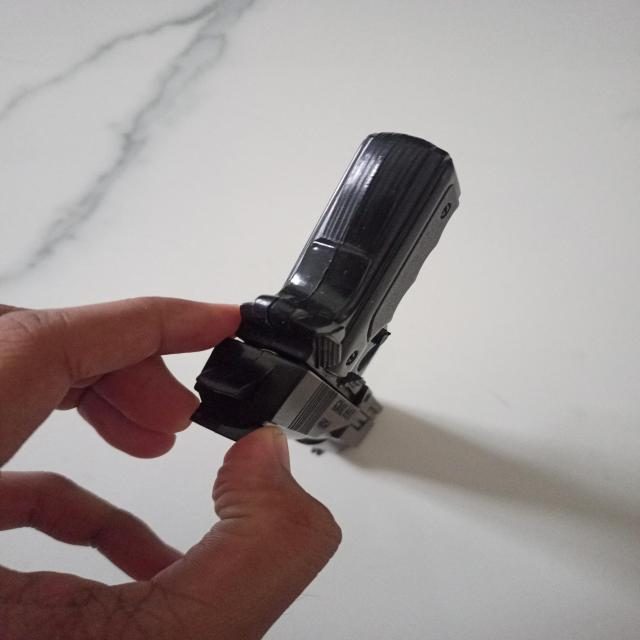handgun: (191, 132, 463, 455)
